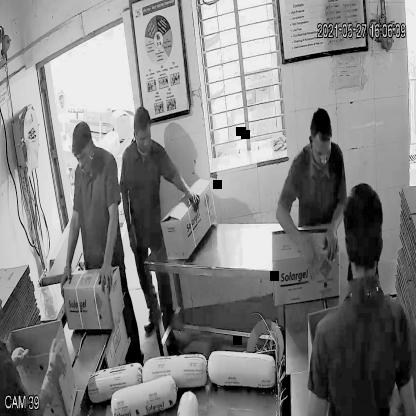no_goggles: (307, 139, 335, 165), (72, 146, 92, 170)
